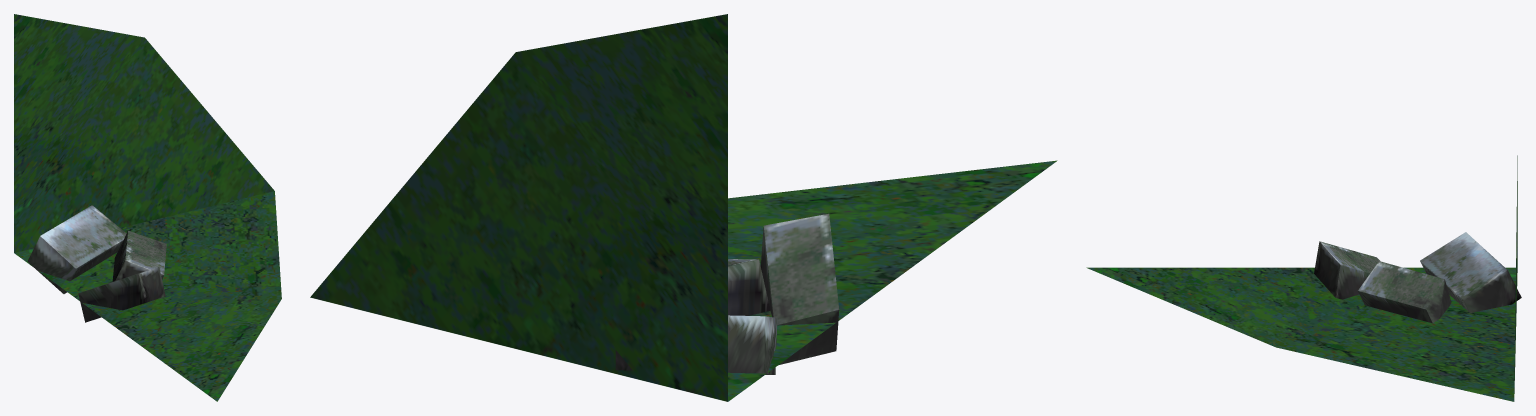
Rendered from stemple_rubble_cap_02.fbx.
3 renders of one model, left to right at view 1: azimuth 30°, elevation 25°; view 2: azimuth 150°, elevation 25°; view 3: azimuth 270°, elevation 25°, orthographic. The views are drawn at different scales.
Parts seen in each view (by area): view 1: obj1.116; view 2: obj1.116; view 3: obj1.116.
Boxes of the visible parts, box(x1,y1,x2,y2) form: obj1.116: box(14, 14, 281, 401); obj1.116: box(310, 14, 1057, 401); obj1.116: box(1086, 155, 1521, 401).
Size of the model in its own units: 2.49 by 2.42 by 3.36.
